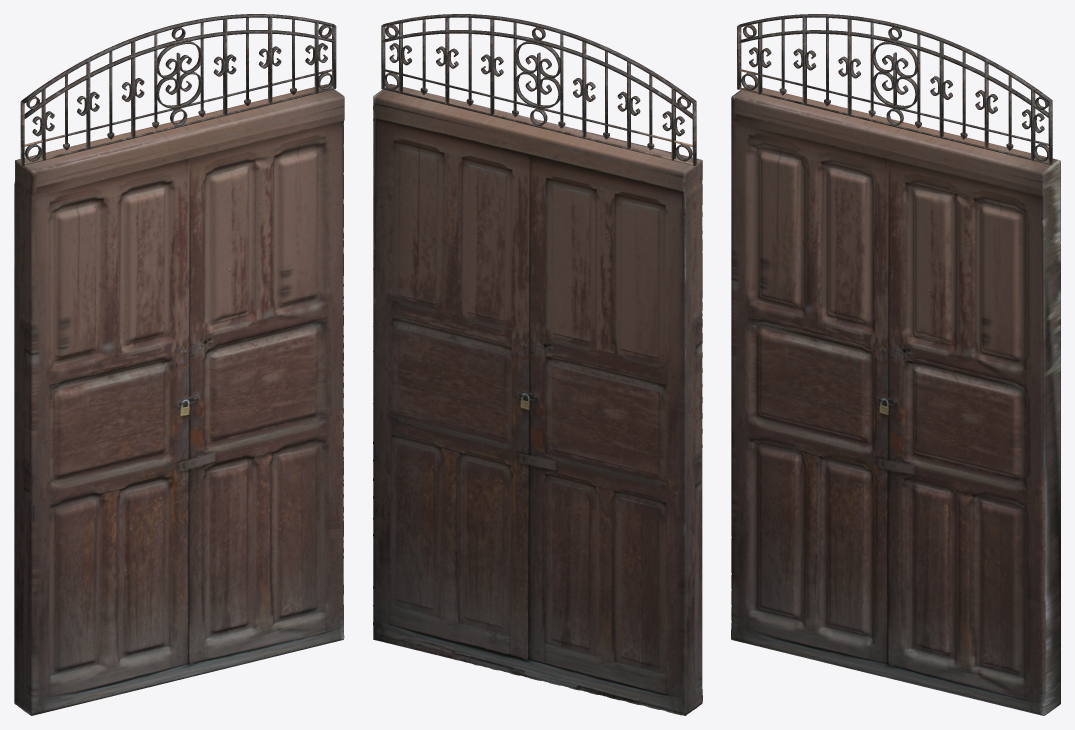
The model's file is puerta.glb.
The picture shows the model from 3 angles, left to right: view 1: azimuth 30°, elevation 25°; view 2: azimuth 150°, elevation 25°; view 3: azimuth 330°, elevation 25°; orthographic projection.
Visible parts, largest first — view 1: Group15794, Group15817; view 2: Group15794, Group15817; view 3: Group15794, Group15817.
Part boxes in pixels (x1,y1,x2,y2): Group15794: (14,84,344,715); Group15817: (20,14,336,165); Group15794: (373,84,702,715); Group15817: (381,14,696,165); Group15794: (731,84,1060,715); Group15817: (737,14,1052,165).
Bounding box in the file's own units: 164 × 323 × 16.09.
2 materials, 2 textured.
